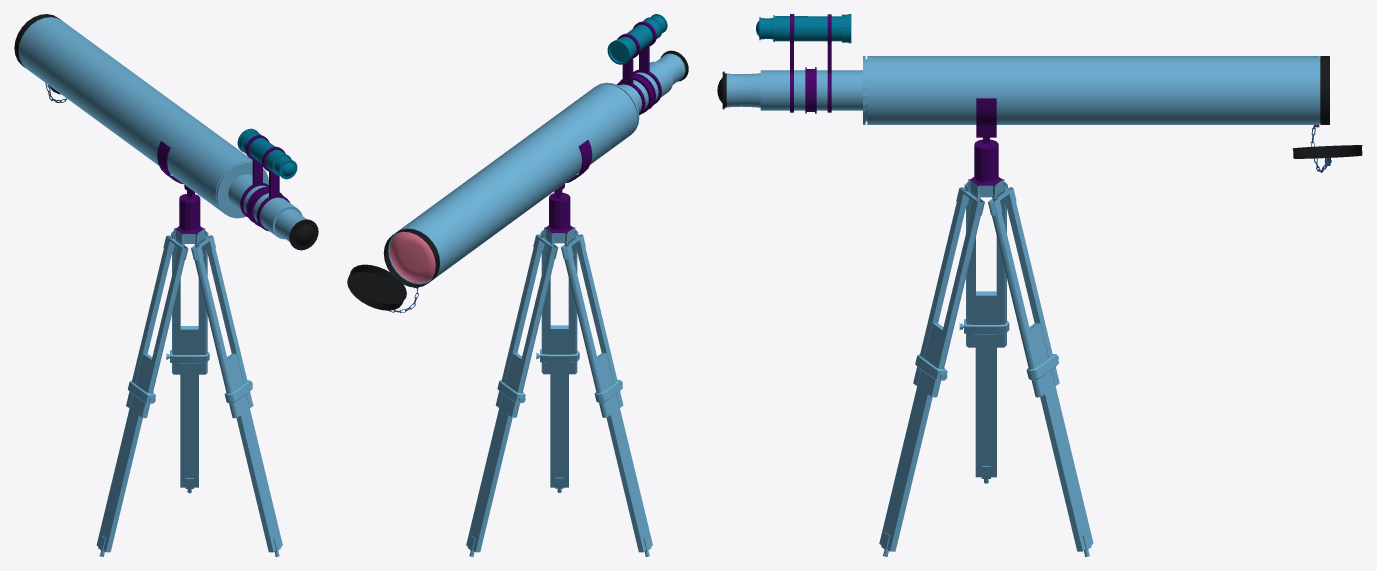
Rendered from telescope.glb.
The picture shows the model from 3 angles, left to right: view 1: azimuth 30°, elevation 25°; view 2: azimuth 150°, elevation 25°; view 3: azimuth 270°, elevation 25°; orthographic projection. The views are drawn at different scales.
Visible parts, largest first — view 1: stand, telescope, finder, capEye, pivot; view 2: stand, telescope, finder, capFront, objectiveLens; view 3: telescope, stand, finder, capFront, pivot.
Boxes of the visible parts, bbox=[...] form: stand: bbox=[96, 186, 282, 556]; telescope: bbox=[14, 14, 306, 241]; finder: bbox=[237, 128, 297, 231]; capEye: bbox=[289, 219, 318, 250]; pivot: bbox=[157, 141, 194, 195]; stand: bbox=[466, 185, 652, 556]; telescope: bbox=[383, 53, 685, 287]; finder: bbox=[607, 14, 667, 115]; capFront: bbox=[347, 264, 418, 313]; objectiveLens: bbox=[389, 231, 435, 282]; telescope: bbox=[726, 56, 1329, 124]; stand: bbox=[879, 131, 1093, 556]; finder: bbox=[756, 14, 851, 112]; capFront: bbox=[1292, 125, 1362, 172]; pivot: bbox=[976, 98, 996, 137].
Size of the model in its own units: 7.38 by 21.27 by 24.08.
3 materials, 3 textured.
